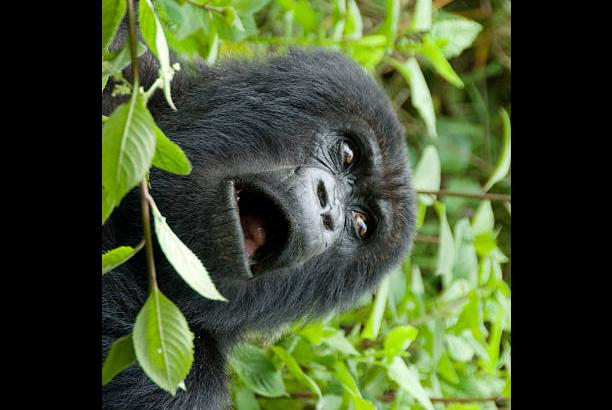goriile_montagne: (101, 0, 446, 410)
